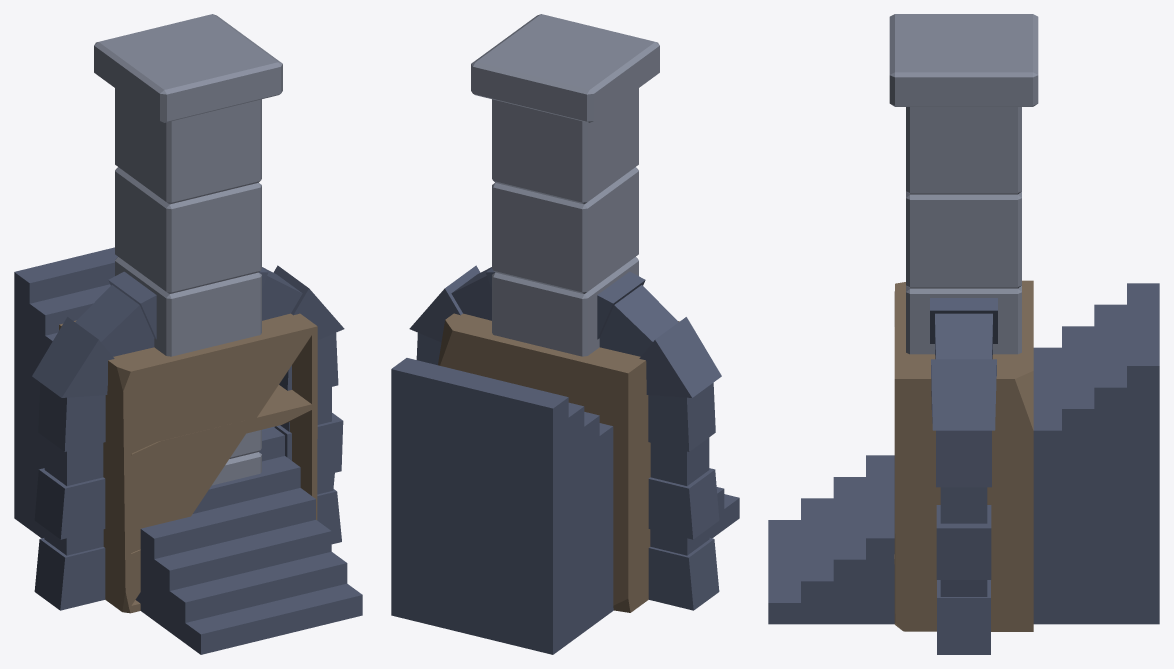
File: dungeon.glb
3 views of the same model, side by side, from view 1: azimuth 30°, elevation 25°; view 2: azimuth 150°, elevation 25°; view 3: azimuth 270°, elevation 25° (orthographic). The views are drawn at different scales.
Visible parts, largest first — view 1: column, stairs, bookcase, arch; view 2: stairs, column, arch, bookcase; view 3: stairs, column, bookcase, arch.
Boxes of the visible parts, x1,y1,x2,y2 form: column: [94, 14, 282, 485]; stairs: [14, 247, 362, 654]; bookcase: [59, 313, 317, 613]; arch: [32, 265, 344, 610]; stairs: [391, 358, 739, 654]; column: [471, 14, 659, 356]; arch: [409, 265, 721, 610]; bookcase: [438, 313, 679, 612]; stairs: [768, 283, 1159, 624]; column: [889, 14, 1038, 354]; bookcase: [894, 280, 1033, 631]; arch: [930, 298, 997, 654].
Size of the model in its own units: 3.69 by 6.4 by 4.21.
